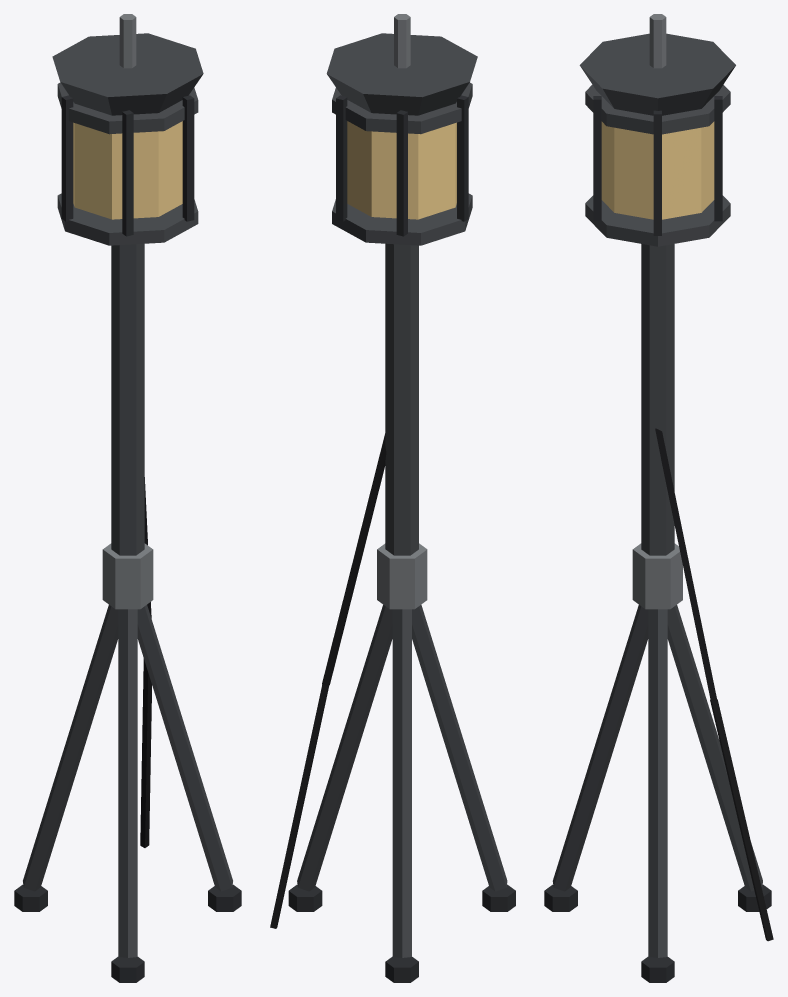
File: piece_lamp.fbx
3 views of the same model, side by side, from view 1: azimuth 30°, elevation 25°; view 2: azimuth 150°, elevation 25°; view 3: azimuth 270°, elevation 25° (orthographic).
Parts seen in each view (by area): view 1: piece_lamp; view 2: piece_lamp; view 3: piece_lamp.
Boxes of the visible parts, x1,y1,x2,y2 form: piece_lamp: (14, 14, 241, 982); piece_lamp: (270, 14, 515, 982); piece_lamp: (544, 14, 773, 982).
Size of the model in its own units: 0.366 by 1.8 by 0.4101.
